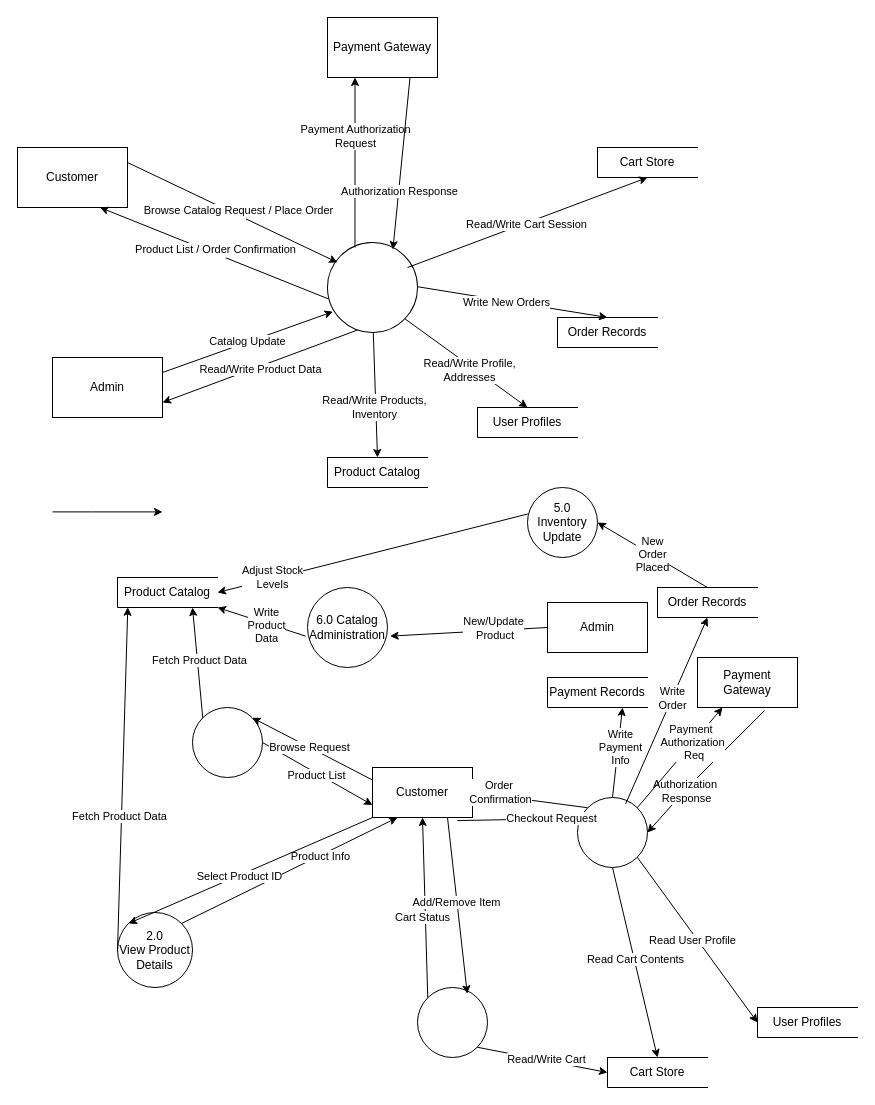
Image size: 875x1105. Some labels were removed from this diagram. The shapes that lost their labels are listed below. From the top down, each one's centre as x and y in pixels, then its label:
(x=372, y=287): 0.0 e-commerce system
(x=227, y=742): 1.0 Browse Products
(x=612, y=832): 4.0 Checkout & Payment
(x=452, y=1022): 3.0 Manage Cart
